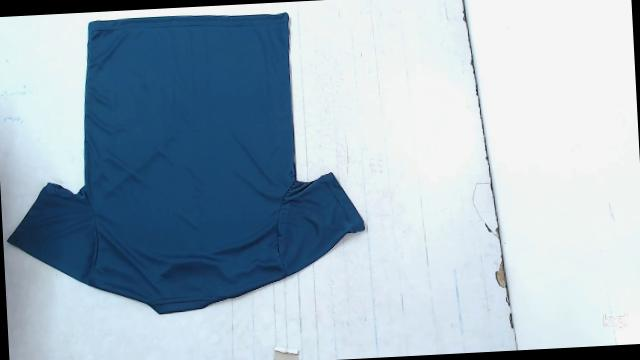new-garment: (7, 13, 363, 313)
